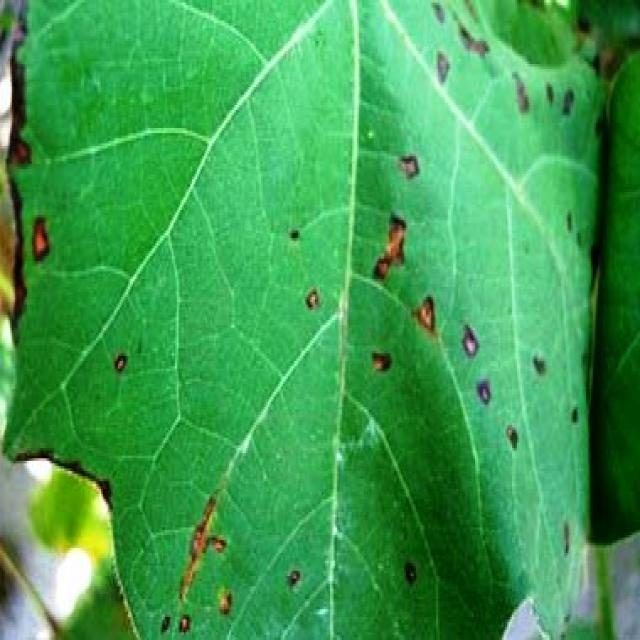Bacterial Blight: (362, 16, 587, 424)
